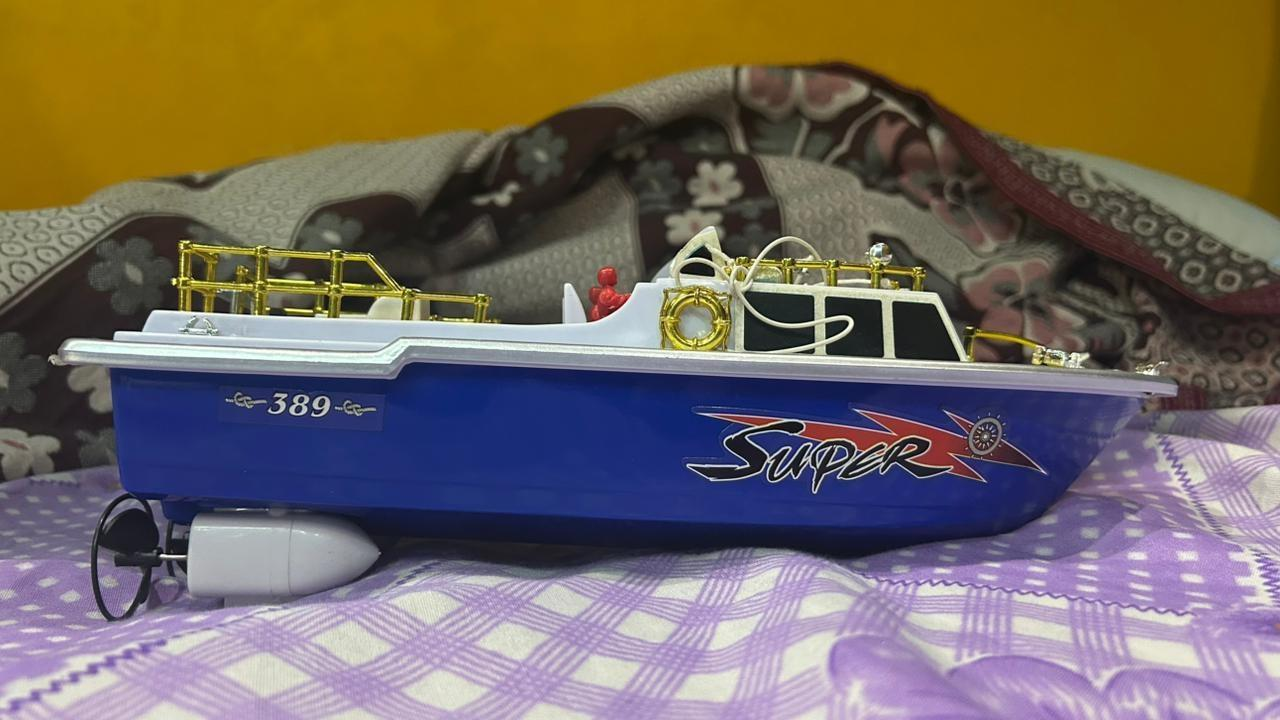Boat: (50, 221, 1189, 630)
